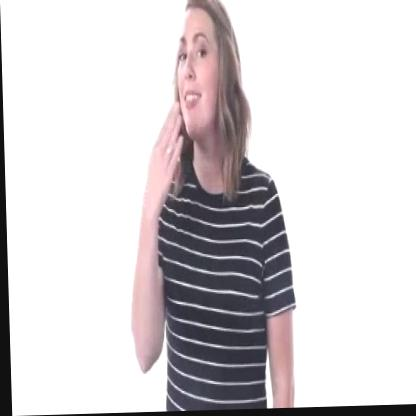ThankYou: (136, 0, 244, 241)
